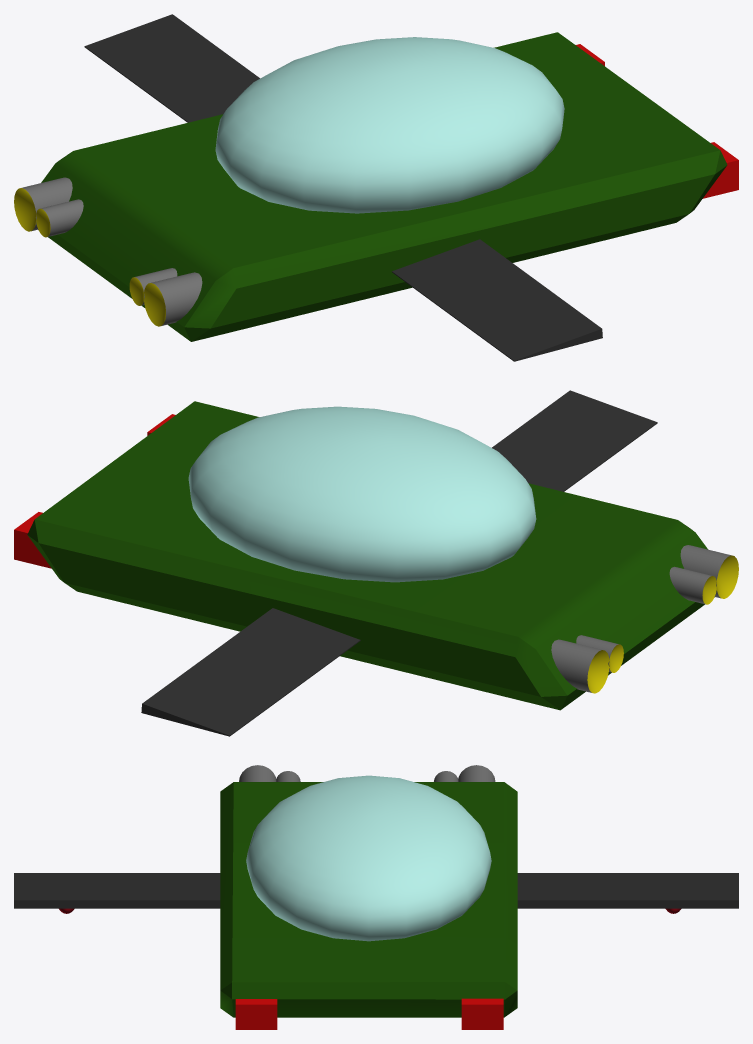
The model's file is HoverCar2.fbx.
The picture shows the model from 3 angles, top to bottom: view 1: azimuth 30°, elevation 25°; view 2: azimuth 150°, elevation 25°; view 3: azimuth 270°, elevation 25°; orthographic projection. The views are drawn at different scales.
Visible parts, largest first — view 1: pCube5; view 2: pCube5; view 3: pCube5.
Boxes of the visible parts, left/top/right/bottom form: pCube5: left=14, top=14, right=738, bottom=361; pCube5: left=14, top=390, right=738, bottom=736; pCube5: left=14, top=765, right=738, bottom=1029.
Bounding box in the file's own units: 13.31 × 3.34 × 17.36.
